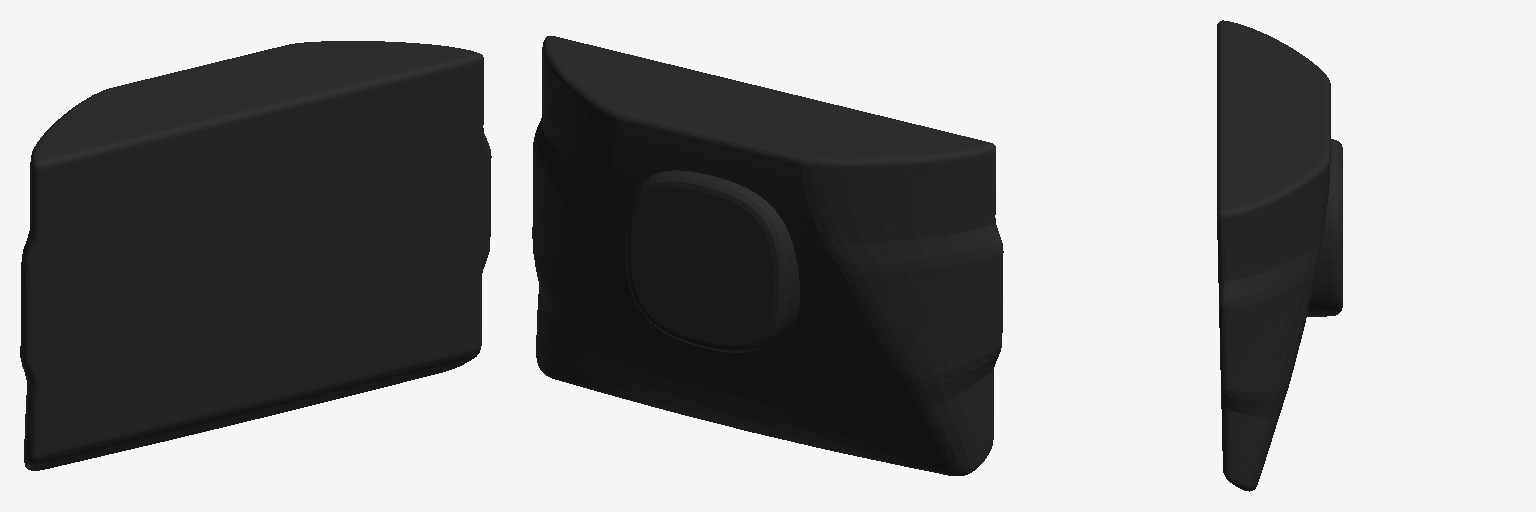
robot.urdf — up1:
<?xml version="1.0" ?>
<!-- =================================================================================== -->
<!-- |    This document was autogenerated by xacro from up1.xacro                      | -->
<!-- |    EDITING THIS FILE BY HAND IS NOT RECOMMENDED                                 | -->
<!-- =================================================================================== -->
<robot name="up1" xmlns:xacro="http://www.ros.org/wiki/xacro">
  <!-- This syntax does not appear to work, even in ros-indigo -->
  <!-- <xacro:arg name="manipulator_module" default="dual_arm" />
  <xacro:arg name="base_module" default="base" />
  <xacro:arg name="io_module" default="io" /> -->
  <!-- ============================   Common   ============================ -->
  <material name="black">
    <color rgba="0 0 0 1"/>
  </material>
  <material name="white">
    <color rgba="1 1 1 1"/>
  </material>
  <material name="red">
    <color rgba="1 0 0 1"/>
  </material>
  <material name="dark grey">
    <color rgba=".2 .2 .2 1"/>
  </material>
  <material name="grey">
    <color rgba=".4 .4 .4 1"/>
  </material>
  <material name="light grey">
    <color rgba=".7 .7 .7 1"/>
  </material>
  <material name="green">
    <color rgba="0 1 0 1"/>
  </material>
  <material name="blue">
    <color rgba="0 0 1 1"/>
  </material>
  <material name="yellow">
    <color rgba="1 1 0 1"/>
  </material>
  <gazebo>
    <plugin filename="libgazebo_ros_control.so" name="gazebo_ros_control">
      <robotNamespace>/up1</robotNamespace>
      <robotSimType>gazebo_ros_control/DefaultRobotHWSim</robotSimType>
    </plugin>
  </gazebo>
  <!-- ============================   Base Module   ============================ -->
  <!-- base_footprint is a fictitious link(frame) that is on the ground right below base_link origin,
         navigation stack dedpends on this frame -->
  <link name="up1_footprint">
    <visual>
      <origin rpy="0 0 0" xyz="0 0 0"/>
      <geometry>
        <box size="0.01 0.01 0.01"/>
      </geometry>
      <material name="white"/>
    </visual>
    <collision>
      <origin rpy="0 0 0" xyz="0 0 0"/>
      <geometry>
        <box size="0.001 0.001 0.001"/>
      </geometry>
    </collision>
  </link>
  <joint name="up1_footprint_joint" type="fixed">
    <origin rpy="0 0 0" xyz="0 0 0"/>
    <child link="base_link"/>
    <parent link="up1_footprint"/>
  </joint>
  <!-- Base Link -->
  <link name="base_link">
    <visual>
      <geometry>
        <mesh filename="package://up1_description/meshes/base/base_viz.dae" scale="0.001 0.001 0.001"/>
      </geometry>
      <material name="dark grey"/>
    </visual>
    <collision>
      <geometry>
        <mesh filename="package://up1_description/meshes/base/base.stl" scale="0.001 0.001 0.001"/>
      </geometry>
    </collision>
    <inertial>
      <mass value="0.30813"/>
      <inertia ixx="0.00175941073" ixy="0.00000172768" ixz="-0.00008279443" iyy="0.00172024238" iyz="0.00000045789" izz="0.00311278092"/>
    </inertial>
  </link>
  <!-- ============================   Base Module Gazebo   ============================ -->
  <gazebo>
    <plugin filename="libgazebo_ros_skid_steer_drive.so" name="skid_steer_drive_controller">
      <updateRate>100.0</updateRate>
      <robotNamespace/>
      <leftFrontJoint>base_to_left_front_wheel</leftFrontJoint>
      <rightFrontJoint>base_to_right_front_wheel</rightFrontJoint>
      <leftRearJoint>base_to_left_back_wheel</leftRearJoint>
      <rightRearJoint>base_to_right_back_wheel</rightRearJoint>
      <wheelSeparation>0.2794</wheelSeparation>
      <wheelDiameter>0.0625</wheelDiameter>
      <robotBaseFrame>up1_footprint</robotBaseFrame>
      <torque>20</torque>
      <topicName>cmd_vel</topicName>
      <broadcastTF>false</broadcastTF>
    </plugin>
  </gazebo>
  <!-- ============================   Wheel   ============================ -->
  <!-- Wheel Joint -->
  <joint name="base_to_right_front_wheel" type="continuous">
    <parent link="base_link"/>
    <child link="right_front_wheel"/>
    <origin rpy="0 0 0" xyz="0.05605 -0.12005 -0.02016"/>
    <axis xyz="0 1 0"/>
  </joint>
  <!-- Wheel Link -->
  <link name="right_front_wheel">
    <visual>
      <geometry>
        <mesh filename="package://up1_description/meshes/base/wheel_right_viz.dae" scale="0.001 0.001 0.001"/>
      </geometry>
      <material name="black"/>
    </visual>
    <collision>
      <geometry>
        <mesh filename="package://up1_description/meshes/base/wheel_right.stl" scale="0.001 0.001 0.001"/>
      </geometry>
    </collision>
    <inertial>
      <mass value="0.01791"/>
      <inertia ixx="0.00000575118" ixy="-0.00000000224" ixz="0.0" iyy="0.00000575882" iyz="0.0" izz="0.0000094354"/>
    </inertial>
  </link>
  <!-- ============================   Wheel   ============================ -->
  <!-- Wheel Joint -->
  <joint name="base_to_right_back_wheel" type="continuous">
    <parent link="base_link"/>
    <child link="right_back_wheel"/>
    <origin rpy="0 0 0" xyz="-0.05848 -0.12005 -0.02016"/>
    <axis xyz="0 1 0"/>
  </joint>
  <!-- Wheel Link -->
  <link name="right_back_wheel">
    <visual>
      <geometry>
        <mesh filename="package://up1_description/meshes/base/wheel_right_viz.dae" scale="0.001 0.001 0.001"/>
      </geometry>
      <material name="black"/>
    </visual>
    <collision>
      <geometry>
        <mesh filename="package://up1_description/meshes/base/wheel_right.stl" scale="0.001 0.001 0.001"/>
      </geometry>
    </collision>
    <inertial>
      <mass value="0.01791"/>
      <inertia ixx="0.00000575118" ixy="-0.00000000224" ixz="0.0" iyy="0.00000575882" iyz="0.0" izz="0.0000094354"/>
    </inertial>
  </link>
  <!-- ============================   Wheel   ============================ -->
  <!-- Wheel Joint -->
  <joint name="base_to_left_front_wheel" type="continuous">
    <parent link="base_link"/>
    <child link="left_front_wheel"/>
    <origin rpy="0 0 0" xyz="0.05605 0.12005 -0.02016"/>
    <axis xyz="0 1 0"/>
  </joint>
  <!-- Wheel Link -->
  <link name="left_front_wheel">
    <visual>
      <geometry>
        <mesh filename="package://up1_description/meshes/base/wheel_left_viz.dae" scale="0.001 0.001 0.001"/>
      </geometry>
      <material name="black"/>
    </visual>
    <collision>
      <geometry>
        <mesh filename="package://up1_description/meshes/base/wheel_left.stl" scale="0.001 0.001 0.001"/>
      </geometry>
    </collision>
    <inertial>
      <mass value="0.01791"/>
      <inertia ixx="0.00000575118" ixy="-0.00000000224" ixz="0.0" iyy="0.00000575882" iyz="0.0" izz="0.0000094354"/>
    </inertial>
  </link>
  <!-- ============================   Wheel   ============================ -->
  <!-- Wheel Joint -->
  <joint name="base_to_left_back_wheel" type="continuous">
    <parent link="base_link"/>
    <child link="left_back_wheel"/>
    <origin rpy="0 0 0" xyz="-0.05848 0.12005 -0.02016"/>
    <axis xyz="0 1 0"/>
  </joint>
  <!-- Wheel Link -->
  <link name="left_back_wheel">
    <visual>
      <geometry>
        <mesh filename="package://up1_description/meshes/base/wheel_left_viz.dae" scale="0.001 0.001 0.001"/>
      </geometry>
      <material name="black"/>
    </visual>
    <collision>
      <geometry>
        <mesh filename="package://up1_description/meshes/base/wheel_left.stl" scale="0.001 0.001 0.001"/>
      </geometry>
    </collision>
    <inertial>
      <mass value="0.01791"/>
      <inertia ixx="0.00000575118" ixy="-0.00000000224" ixz="0.0" iyy="0.00000575882" iyz="0.0" izz="0.0000094354"/>
    </inertial>
  </link>
  <!-- ============================   IO Module   ============================ -->
  <!-- IO Joint -->
  <joint name="base_to_io" type="fixed">
    <parent link="base_link"/>
    <child link="io_link"/>
    <origin xyz="0.09184 0.0 0.03465"/>
  </joint>
  <!-- IO Link -->
  <link name="io_link">
    <visual>
      <geometry>
        <mesh filename="package://up1_description/meshes/io/io_viz.dae" scale="0.001 0.001 0.001"/>
      </geometry>
      <material name="grey"/>
    </visual>
    <collision>
      <geometry>
        <mesh filename="package://up1_description/meshes/io/io.stl" scale="0.001 0.001 0.001"/>
      </geometry>
    </collision>
    <inertial>
      <mass value="0.09799"/>
      <inertia ixx="0.00036946993" ixy="0.00000010944" ixz="-0.00001523298" iyy="0.00007193675" iyz="0.00000030515" izz="0.00034948153"/>
    </inertial>
  </link>
  <!-- ============================   IO Module Gazebo   ============================ -->
  <gazebo>

    </gazebo>
  <!-- ============================   Camera   ============================ -->
  <!-- Camera Joint -->
  <joint name="io_to_right_camera" type="fixed">
    <parent link="io_link"/>
    <child link="right_camera"/>
    <origin rpy="0 0.209439333333 0" xyz="-0.00751 0.0215 0.00476"/>
  </joint>
  <!-- Camera Link -->
  <link name="right_camera">
    <visual>
      <geometry>
        <mesh filename="package://up1_description/meshes/io/camera_viz.dae" scale="0.001 0.001 0.001"/>
      </geometry>
      <material name="black"/>
    </visual>
    <collision>
      <geometry>
        <mesh filename="package://up1_description/meshes/io/camera.stl" scale="0.001 0.001 0.001"/>
      </geometry>
    </collision>
    <inertial>
      <mass value="0.00488"/>
      <inertia ixx="0.00000029098" ixy="0.0" ixz="0.0" iyy="0.00000085538" iyz="0.0" izz="0.00000085538"/>
    </inertial>
  </link>
  <!-- ============================   Camera   ============================ -->
  <!-- Camera Joint -->
  <joint name="io_to_left_camera" type="fixed">
    <parent link="io_link"/>
    <child link="left_camera"/>
    <origin rpy="0 0.209439333333 0" xyz="-0.00751 -0.0215 0.00476"/>
  </joint>
  <!-- Camera Link -->
  <link name="left_camera">
    <visual>
      <geometry>
        <mesh filename="package://up1_description/meshes/io/camera_viz.dae" scale="0.001 0.001 0.001"/>
      </geometry>
      <material name="black"/>
    </visual>
    <collision>
      <geometry>
        <mesh filename="package://up1_description/meshes/io/camera.stl" scale="0.001 0.001 0.001"/>
      </geometry>
    </collision>
    <inertial>
      <mass value="0.00488"/>
      <inertia ixx="0.00000029098" ixy="0.0" ixz="0.0" iyy="0.00000085538" iyz="0.0" izz="0.00000085538"/>
    </inertial>
  </link>
  <!-- ============================   Mono Arm Module   ============================ -->
  <!-- This xacro group is intended to be used in a full UP1 robot URDF -->
  <!-- ============================   Arm Root  ============================ -->
  <!-- Armroot Joint -->
  <joint name="base_to_armroot" type="fixed">
    <parent link="base_link"/>
    <child link="armroot_link"/>
    <origin xyz="0.00556 0.0 0.05058"/>
  </joint>
  <!-- Armroot Link -->
  <link name="armroot_link">
    <visual>
      <geometry>
        <mesh filename="package://up1_description/meshes/mono_arm/armroot_viz.dae" scale="0.001 0.001 0.001"/>
      </geometry>
      <material name="light grey"/>
    </visual>
    <collision>
      <geometry>
        <mesh filename="package://up1_description/meshes/mono_arm/armroot.stl" scale="0.001 0.001 0.001"/>
      </geometry>
    </collision>
    <inertial>
      <mass value="0.20657"/>
      <inertia ixx="0.00096240277" ixy="-0.00000350376" ixz="0.00002354169" iyy="0.00057897825" iyz="0.00000127419" izz="0.00134814249"/>
    </inertial>
  </link>
  <!-- ============================   Arm   ============================ -->
  <!-- Arm Joint 1 -->
  <joint name="right_armroot_to_armlink1" type="revolute">
    <parent link="armroot_link"/>
    <child link="right_armlink1"/>
    <origin rpy="0 0 0" xyz="0.0 0.0 0.03099"/>
    <axis xyz="0 0 1"/>
    <limit effort="6.0" lower="-1.570795" upper="1.570795" velocity="5.236"/>
  </joint>
  <!-- Arm Link 1 -->
  <link name="right_armlink1">
    <visual>
      <geometry>
        <mesh filename="package://up1_description/meshes/mono_arm/armlink1_viz.dae" scale="0.001 0.001 0.001"/>
      </geometry>
      <material name="light grey"/>
    </visual>
    <collision>
      <geometry>
        <mesh filename="package://up1_description/meshes/mono_arm/armlink1.stl" scale="0.001 0.001 0.001"/>
      </geometry>
    </collision>
    <inertial>
      <mass value="0.06985"/>
      <inertia ixx="0.00023448766" ixy="0.0000000027" ixz="0.00000001913" iyy="0.00024004726" iyz="-0.0000015393" izz="0.00007431363"/>
    </inertial>
  </link>
  <!-- Arm Joint 2 -->
  <joint name="right_armlink1_to_armlink2" type="revolute">
    <parent link="right_armlink1"/>
    <child link="right_armlink2"/>
    <origin rpy="0 0 0" xyz="0.0 0.0 0.05527"/>
    <axis xyz="0 1 0"/>
    <limit effort="6.0" lower="-1.570795" upper="1.570795" velocity="4.553"/>
  </joint>
  <!-- Arm Link 2 -->
  <link name="right_armlink2">
    <visual>
      <geometry>
        <mesh filename="package://up1_description/meshes/mono_arm/armlink2_viz.dae" scale="0.001 0.001 0.001"/>
      </geometry>
      <material name="light grey"/>
    </visual>
    <collision>
      <geometry>
        <mesh filename="package://up1_description/meshes/mono_arm/armlink2.stl" scale="0.001 0.001 0.001"/>
      </geometry>
    </collision>
    <inertial>
      <mass value="0.07067"/>
      <inertia ixx="0.00029708797" ixy="-0.00000000444" ixz="0.00000000068" iyy="0.0000799845" iyz="-0.00000174097" izz="0.00026073683"/>
    </inertial>
  </link>
  <!-- Arm Joint 3 -->
  <joint name="right_armlink2_to_armlink3" type="revolute">
    <parent link="right_armlink2"/>
    <child link="right_armlink3"/>
    <origin rpy="0 0 0" xyz="0.0 0.0 0.10602"/>
    <axis xyz="0 0 1"/>
    <limit effort="6.0" lower="-1.570795" upper="1.570795" velocity="5.236"/>
  </joint>
  <!-- Arm Link 3 -->
  <link name="right_armlink3">
    <visual>
      <geometry>
        <mesh filename="package://up1_description/meshes/mono_arm/armlink3_viz.dae" scale="0.001 0.001 0.001"/>
      </geometry>
      <material name="light grey"/>
    </visual>
    <collision>
      <geometry>
        <mesh filename="package://up1_description/meshes/mono_arm/armlink3.stl" scale="0.001 0.001 0.001"/>
      </geometry>
    </collision>
    <inertial>
      <mass value="0.04828"/>
      <inertia ixx="0.00010408822" ixy="0.00000002684" ixz="0.00000006554" iyy="0.00008358122" iyz="0.00000001571" izz="0.00004453887"/>
    </inertial>
  </link>
  <!-- Arm Joint 4 -->
  <joint name="right_armlink3_to_armlink4" type="revolute">
    <parent link="right_armlink3"/>
    <child link="right_armlink4"/>
    <origin rpy="0 0 0" xyz="0.0 0.0 0.05588"/>
    <axis xyz="0 1 0"/>
    <limit effort="6.0" lower="-1.570795" upper="1.570795" velocity="5.236"/>
  </joint>
  <!-- Arm Link 4 -->
  <link name="right_armlink4">
    <visual>
      <geometry>
        <mesh filename="package://up1_description/meshes/mono_arm/armlink4_viz.dae" scale="0.001 0.001 0.001"/>
      </geometry>
      <material name="light grey"/>
    </visual>
    <collision>
      <geometry>
        <mesh filename="package://up1_description/meshes/mono_arm/armlink4.stl" scale="0.001 0.001 0.001"/>
      </geometry>
    </collision>
    <inertial>
      <mass value="0.07021"/>
      <inertia ixx="0.00022365714" ixy="0.00000581335" ixz="-0.00000002583" iyy="0.00004497277" iyz="0.00000036702" izz="0.00022294807"/>
    </inertial>
  </link>
  <!-- Arm Joint 5 -->
  <joint name="right_armlink4_to_gripper" type="revolute">
    <parent link="right_armlink4"/>
    <child link="right_gripper"/>
    <origin rpy="0 0 0" xyz="0.0 0.0 0.08471"/>
    <axis xyz="1 0 0"/>
    <limit effort="6.0" lower="-1.570795" upper="1.570795" velocity="5.236"/>
  </joint>
  <!-- Gripper Link -->
  <link name="right_gripper">
    <visual>
      <geometry>
        <mesh filename="package://up1_description/meshes/mono_arm/armlink5_viz.dae" scale="0.001 0.001 0.001"/>
      </geometry>
      <material name="light grey"/>
    </visual>
    <collision>
      <geometry>
        <mesh filename="package://up1_description/meshes/mono_arm/armlink5.stl" scale="0.001 0.001 0.001"/>
      </geometry>
    </collision>
    <inertial>
      <mass value="0.07134"/>
      <inertia ixx="0.00024486788" ixy="-0.00000179765" ixz="-0.0000013121" iyy="0.00007141374" iyz="0.00000015595" izz="0.0002397239"/>
    </inertial>
  </link>
  <!-- ============================   Arm Gazebo  ============================ -->
  <gazebo reference="right_armlink1">
    <turnGravityOff>true</turnGravityOff>
  </gazebo>
  <gazebo reference="right_armlink2">
    <turnGravityOff>true</turnGravityOff>
  </gazebo>
  <gazebo reference="right_armlink3">
    <turnGravityOff>true</turnGravityOff>
  </gazebo>
  <gazebo reference="right_armlink4">
    <turnGravityOff>true</turnGravityOff>
  </gazebo>
  <gazebo reference="right_gripper">
    <turnGravityOff>true</turnGravityOff>
  </gazebo>
  <!-- ============================   Arm Transmission  ============================ -->
  <transmission name="right_armroot_to_armlink1_trans">
    <type>transmission_interface/SimpleTransmission</type>
    <joint name="right_armroot_to_armlink1">
      <hardwareInterface>PositionJointInterface</hardwareInterface>
    </joint>
    <actuator name="right_armroot_to_armlink1_motor">
      <mechanicalReduction>1</mechanicalReduction>
    </actuator>
  </transmission>
  <transmission name="right_armlink1_to_armlink2_trans">
    <type>transmission_interface/SimpleTransmission</type>
    <joint name="right_armlink1_to_armlink2">
      <hardwareInterface>PositionJointInterface</hardwareInterface>
    </joint>
    <actuator name="right_armlink1_to_armlink2_motor">
      <mechanicalReduction>1</mechanicalReduction>
    </actuator>
  </transmission>
  <transmission name="right_armlink2_to_armlink3_trans">
    <type>transmission_interface/SimpleTransmission</type>
    <joint name="right_armlink2_to_armlink3">
      <hardwareInterface>PositionJointInterface</hardwareInterface>
    </joint>
    <actuator name="right_armlink2_to_armlink3_motor">
      <mechanicalReduction>1</mechanicalReduction>
    </actuator>
  </transmission>
  <transmission name="right_armlink3_to_armlink4_trans">
    <type>transmission_interface/SimpleTransmission</type>
    <joint name="right_armlink3_to_armlink4">
      <hardwareInterface>PositionJointInterface</hardwareInterface>
    </joint>
    <actuator name="right_armlink3_to_armlink4_motor">
      <mechanicalReduction>1</mechanicalReduction>
    </actuator>
  </transmission>
  <transmission name="right_armlink4_to_gripper_trans">
    <type>transmission_interface/SimpleTransmission</type>
    <joint name="right_armlink4_to_gripper">
      <hardwareInterface>PositionJointInterface</hardwareInterface>
    </joint>
    <actuator name="right_armlink4_to_gripper_motor">
      <mechanicalReduction>1</mechanicalReduction>
    </actuator>
  </transmission>
  <!-- ============================   Gripper   ============================ -->
  <!-- Finger Joint -->
  <joint name="right_finger_joint" type="prismatic">
    <parent link="right_gripper"/>
    <child link="right_finger1"/>
    <origin rpy="0 0 0" xyz="0.0 0.0 0.07961"/>
    <axis xyz="0 1 0"/>
    <limit effort="6.0" lower="0" upper="0.018" velocity="1"/>
  </joint>
  <!-- Finger Link 1 -->
  <link name="right_finger1">
    <visual>
      <geometry>
        <mesh filename="package://up1_description/meshes/mono_arm/finger_1_viz.dae" scale="0.001 0.001 0.001"/>
      </geometry>
      <material name="light grey"/>
    </visual>
    <collision>
      <geometry>
        <mesh filename="package://up1_description/meshes/mono_arm/finger_1.stl" scale="0.001 0.001 0.001"/>
      </geometry>
    </collision>
    <inertial>
      <mass value="0.01174"/>
      <inertia ixx="0.00000285949" ixy="-0.00000001641" ixz="0.00000001803" iyy="0.00000203198" iyz="-0.00000077289" izz="0.00000299021"/>
    </inertial>
  </link>
  <!-- ============================   Gripper Gazebo   ============================ -->
  <gazebo reference="right_finger1">
    <turnGravityOff>true</turnGravityOff>
  </gazebo>
  <gazebo reference="right_finger2">
    <turnGravityOff>true</turnGravityOff>
  </gazebo>
  <!-- ============================   Gripper Transmission   ============================ -->
  <transmission name="right_gripper_trans">
    <type>transmission_interface/SimpleTransmission</type>
    <joint name="right_finger_joint">
      <hardwareInterface>PositionJointInterface</hardwareInterface>
    </joint>
    <actuator name="right_gripper_motor">
      <mechanicalReduction>1</mechanicalReduction>
    </actuator>
  </transmission>
  <transmission name="right_gripper_trans">
    <type>transmission_interface/SimpleTransmission</type>
    <joint name="right_finger_joint_fake">
      <hardwareInterface>PositionJointInterface</hardwareInterface>
    </joint>
    <actuator name="right_gripper_motor">
      <mechanicalReduction>1</mechanicalReduction>
    </actuator>
  </transmission>
  <!-- ============================   Gripper   ============================ -->
  <!-- Finger Joint -->
  <joint name="right_finger_joint_fake" type="prismatic">
    <parent link="right_gripper"/>
    <child link="right_finger2"/>
    <origin rpy="0 0 0" xyz="-0.0 0.0 0.07961"/>
    <axis xyz="0 1 0"/>
    <limit effort="6.0" lower="0" upper="0.018" velocity="1"/>
  </joint>
  <!-- Finger Link 1 -->
  <link name="right_finger2">
    <visual>
      <geometry>
        <mesh filename="package://up1_description/meshes/mono_arm/finger_2_viz.dae" scale="0.001 0.001 0.001"/>
      </geometry>
      <material name="light grey"/>
    </visual>
    <collision>
      <geometry>
        <mesh filename="package://up1_description/meshes/mono_arm/finger_2.stl" scale="0.001 0.001 0.001"/>
      </geometry>
    </collision>
    <inertial>
      <mass value="0.01174"/>
      <inertia ixx="0.00000285949" ixy="-0.00000001641" ixz="0.00000001803" iyy="0.00000203198" iyz="-0.00000077289" izz="0.00000299021"/>
    </inertial>
  </link>
  <!-- ============================   Gripper Gazebo   ============================ -->
  <gazebo reference="right_finger1">
    <turnGravityOff>true</turnGravityOff>
  </gazebo>
  <gazebo reference="right_finger2">
    <turnGravityOff>true</turnGravityOff>
  </gazebo>
  <!-- ============================   Gripper Transmission   ============================ -->
  <transmission name="right_gripper_trans">
    <type>transmission_interface/SimpleTransmission</type>
    <joint name="right_finger_joint">
      <hardwareInterface>PositionJointInterface</hardwareInterface>
    </joint>
    <actuator name="right_gripper_motor">
      <mechanicalReduction>1</mechanicalReduction>
    </actuator>
  </transmission>
  <transmission name="right_gripper_trans">
    <type>transmission_interface/SimpleTransmission</type>
    <joint name="right_finger_joint_fake">
      <hardwareInterface>PositionJointInterface</hardwareInterface>
    </joint>
    <actuator name="right_gripper_motor">
      <mechanicalReduction>1</mechanicalReduction>
    </actuator>
  </transmission>
</robot>

--- What the picture shows (computed from the rendered views, not written in the file) ---
3 views of the same robot in one strip: view 1: azimuth 30°, elevation 25°; view 2: azimuth 150°, elevation 25°; view 3: azimuth 270°, elevation 25° (orthographic).
Model up1 with 17 links and 16 joints (5 revolute, 4 continuous, 2 prismatic, 5 fixed), rooted at up1_footprint, posed all joints at 0.
Links seen in each view (by area): view 1: base_link; view 2: base_link; view 3: base_link.
Boxes of the visible links, bbox=[...] form: base_link: bbox=[20, 41, 491, 470]; base_link: bbox=[532, 36, 1003, 475]; base_link: bbox=[1217, 20, 1342, 491].
Size in the robot's own frame: 0.2311 by 0.0612 by 0.1554 metres.
1 mesh visuals loaded from 13 distinct referenced files (1 Collada DAE); not drawn: 15 (reference not matched to a file when rendering).